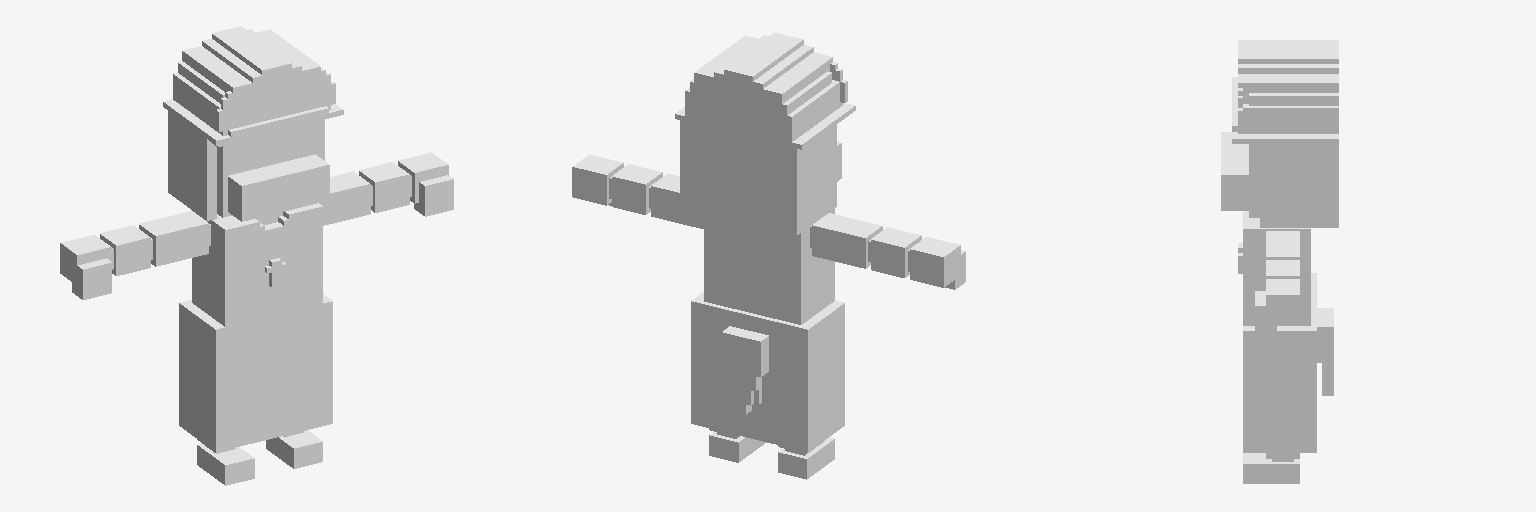
The model's file is num.obj.
3 views of the same model, side by side, from view 1: azimuth 30°, elevation 25°; view 2: azimuth 150°, elevation 25°; view 3: azimuth 270°, elevation 25° (orthographic).
Visible parts, largest first — view 1: nun.001; view 2: nun.001; view 3: nun.001.
Part boxes in pixels (bbox=[...]): nun.001: bbox=[60, 26, 453, 485]; nun.001: bbox=[572, 32, 965, 479]; nun.001: bbox=[1221, 40, 1338, 483].
Bounding box in the file's own units: 4.74 × 4.99 × 1.31.